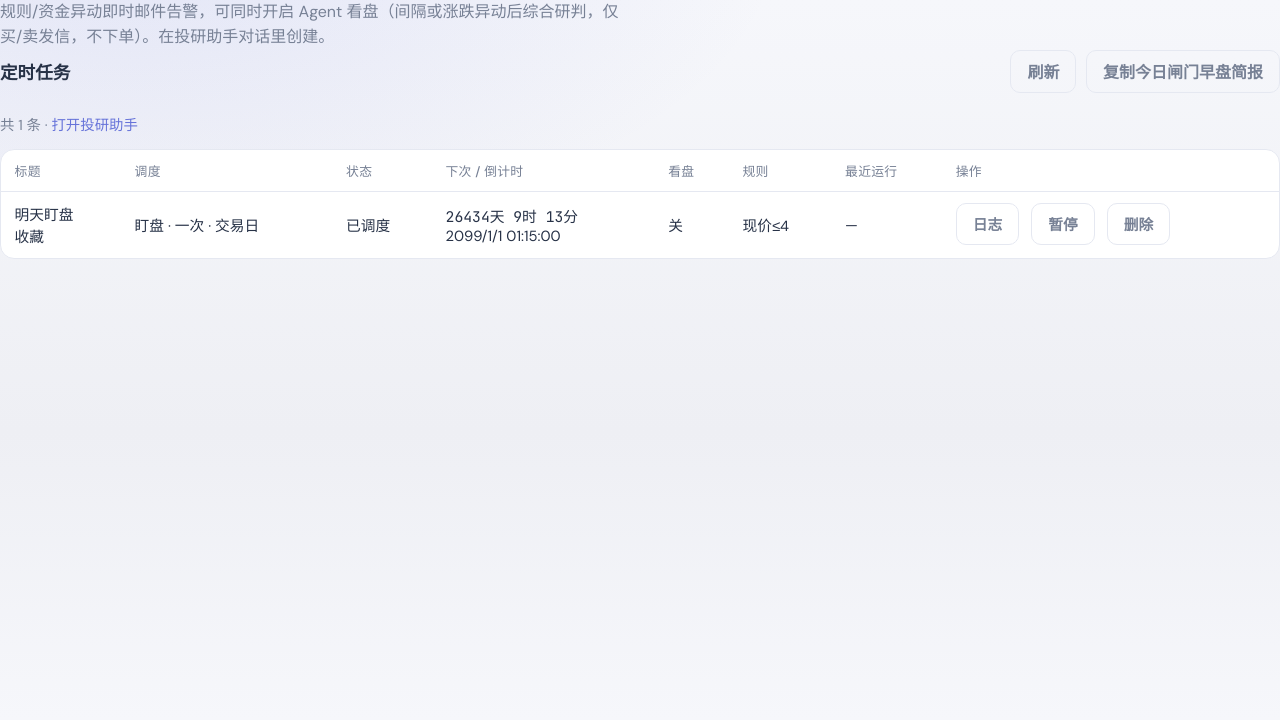
Scenario: renders countdown and opens log drawer with poll
Expected: the text "明天盯盘" is shown, [15, 205, 74, 225]
Expected: the text "盯盘 · 一次 · 交易日" is shown, [135, 216, 259, 236]
Click the button "日志".
click(988, 224)  # box [956, 203, 1019, 245]
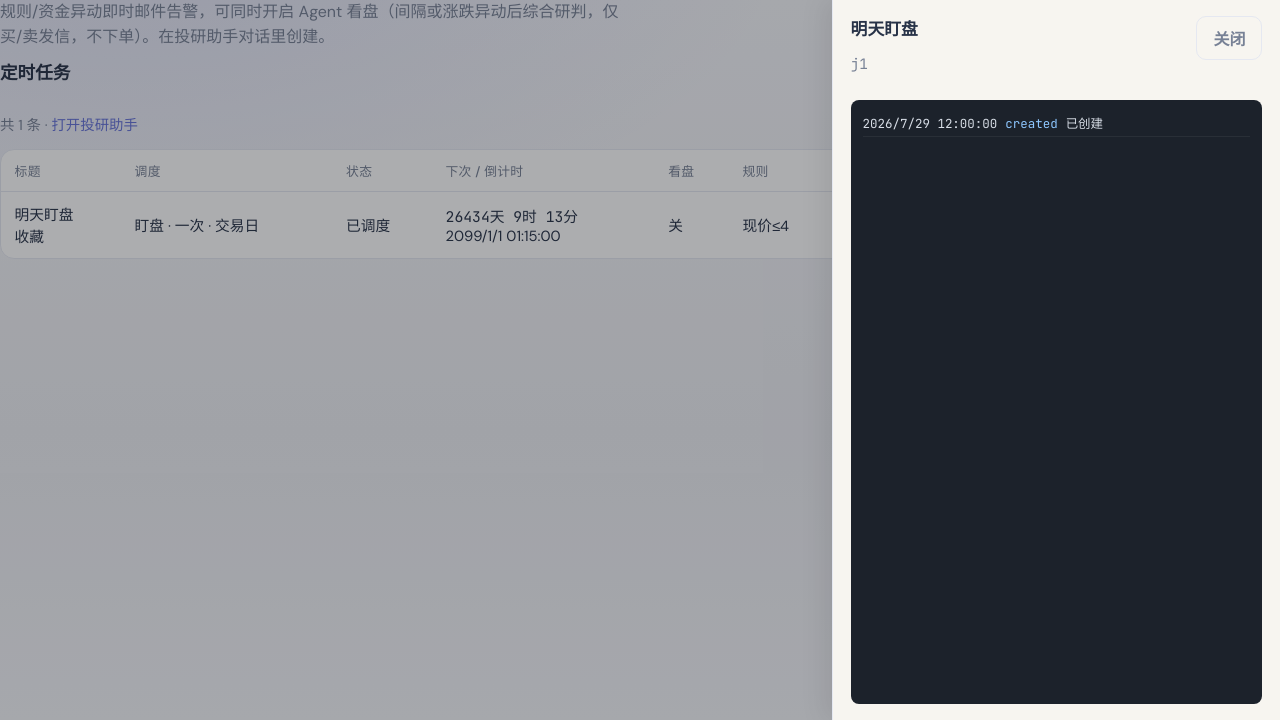
Now the element with test id "monitor-log-console" is shown, box [851, 100, 1262, 704]
Now the text "已创建" is shown, box [1066, 115, 1103, 132]
